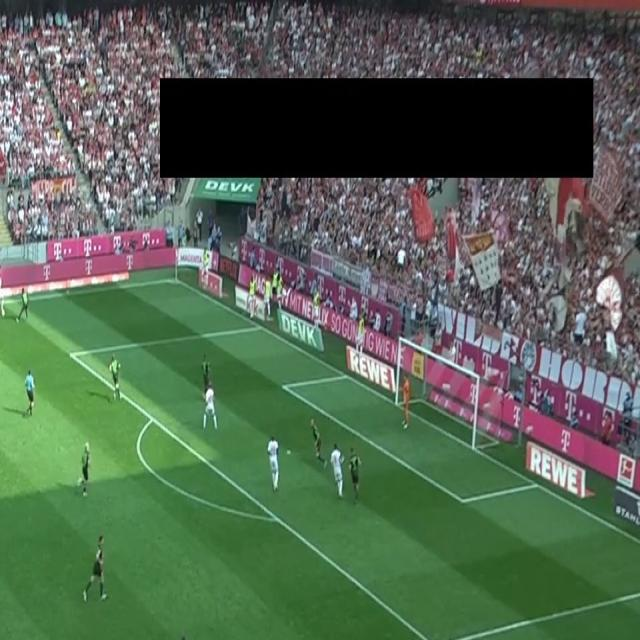ball: (0, 308, 6, 317)
